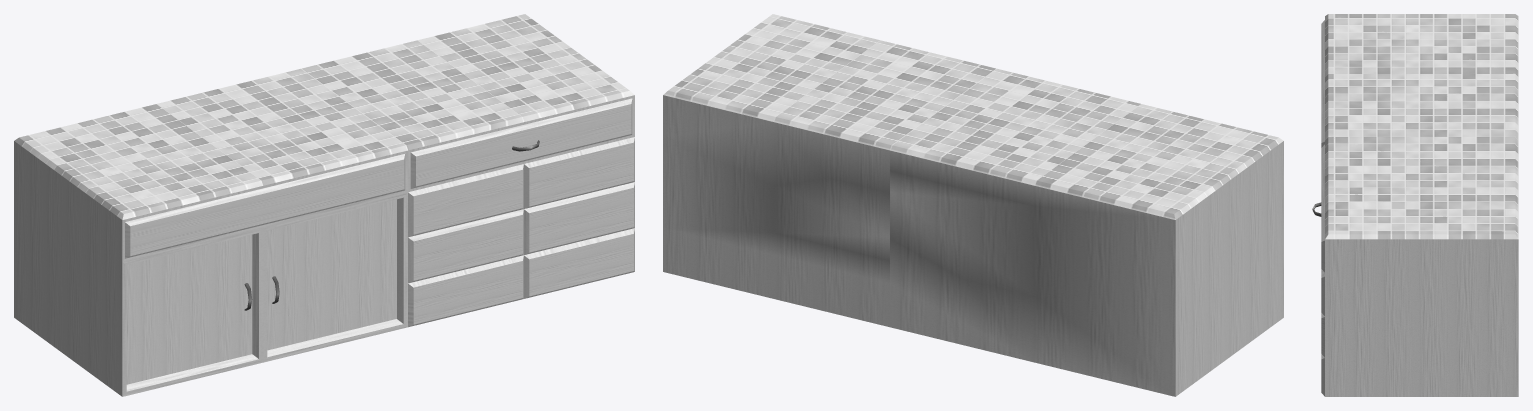
Rendered from Kitchen_Counter_B2.FBX.
3 renders of one model, left to right at view 1: azimuth 30°, elevation 25°; view 2: azimuth 150°, elevation 25°; view 3: azimuth 270°, elevation 25°, orthographic. The views are drawn at different scales.
Visible parts, largest first — view 1: Kitchen_Counter_A; view 2: Kitchen_Counter_A; view 3: Kitchen_Counter_A.
Part boxes in pixels (<box>): Kitchen_Counter_A: <box>14,14,634,396</box>; Kitchen_Counter_A: <box>663,14,1283,396</box>; Kitchen_Counter_A: <box>1312,14,1518,396</box>.
Bounding box in the file's own units: 409 × 138 × 160.
